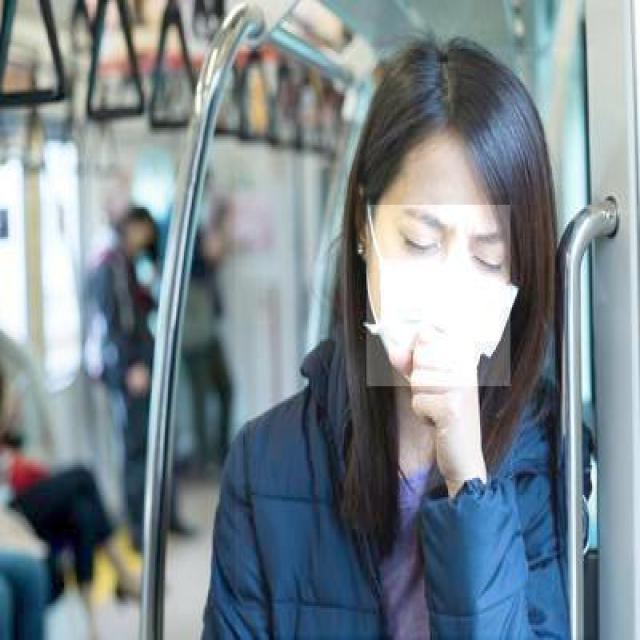face_mask: (366, 205, 511, 386)
hand_noglove: (398, 300, 480, 421)
head_nohelmet: (354, 62, 522, 196)
person: (235, 47, 595, 638)
